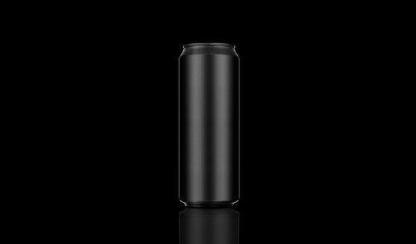Can: (177, 40, 243, 210)
